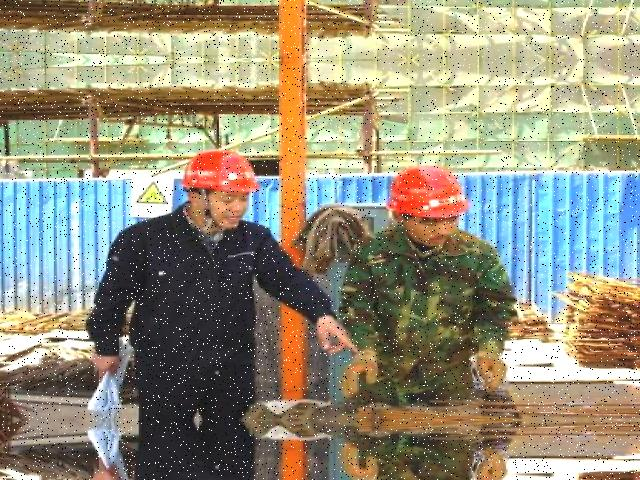Helmet: (386, 160, 476, 227), (176, 146, 269, 198)
